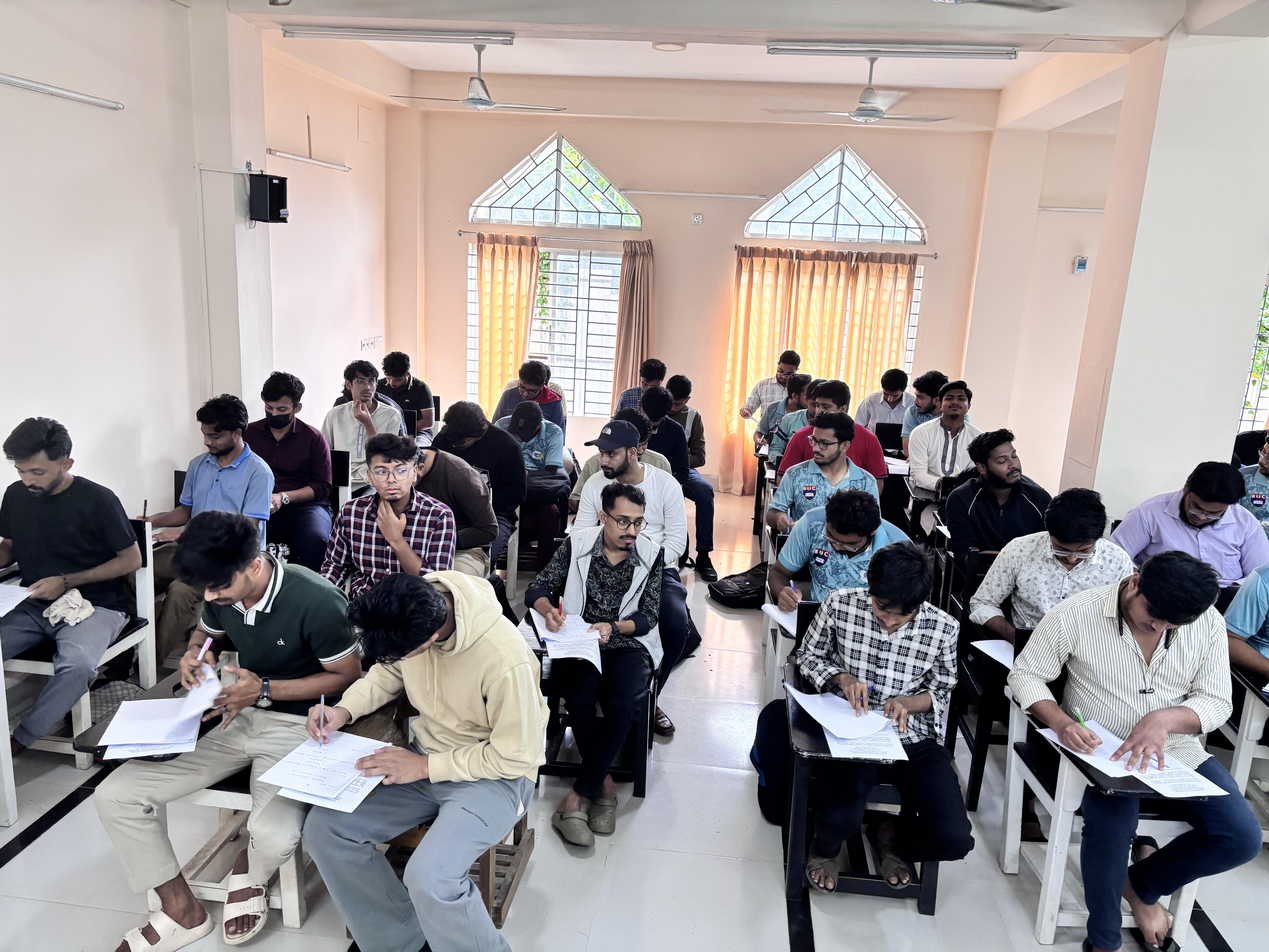copying: (772, 412, 875, 480), (578, 419, 669, 482)
no_cheating: (301, 573, 485, 807), (132, 511, 280, 772), (1101, 550, 1227, 804), (834, 540, 955, 764), (537, 481, 670, 662), (0, 411, 98, 634), (325, 428, 450, 569), (1006, 489, 1123, 628), (771, 486, 884, 624), (944, 423, 1056, 541), (174, 391, 260, 517), (1160, 454, 1251, 549), (916, 381, 984, 492), (328, 354, 393, 446), (495, 397, 563, 478), (437, 397, 500, 474), (257, 367, 309, 446), (378, 348, 428, 426), (866, 366, 919, 436), (498, 357, 563, 414), (801, 379, 872, 428), (758, 347, 803, 416), (621, 354, 675, 407)
side_talking: (904, 368, 948, 448)
